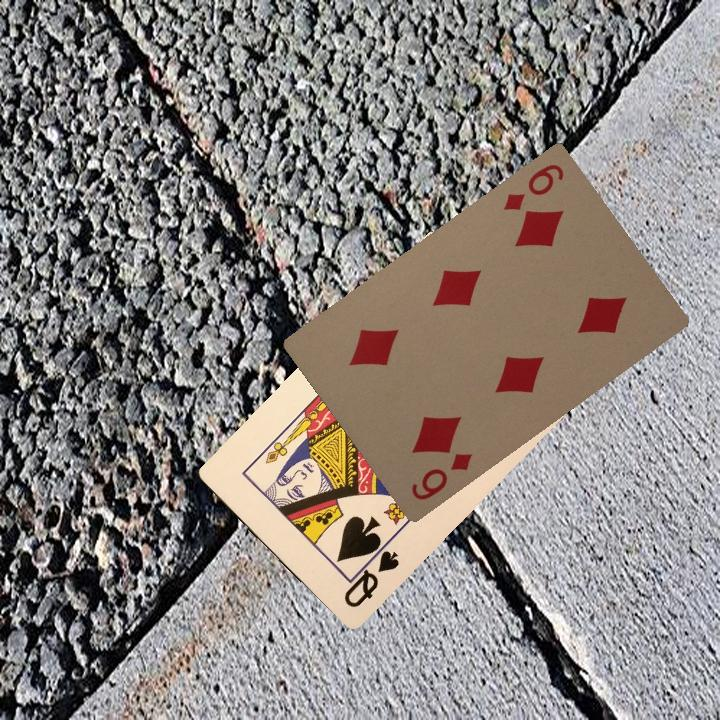6d: (407, 448, 475, 503), (498, 159, 567, 213)
Qs: (339, 537, 402, 610)
